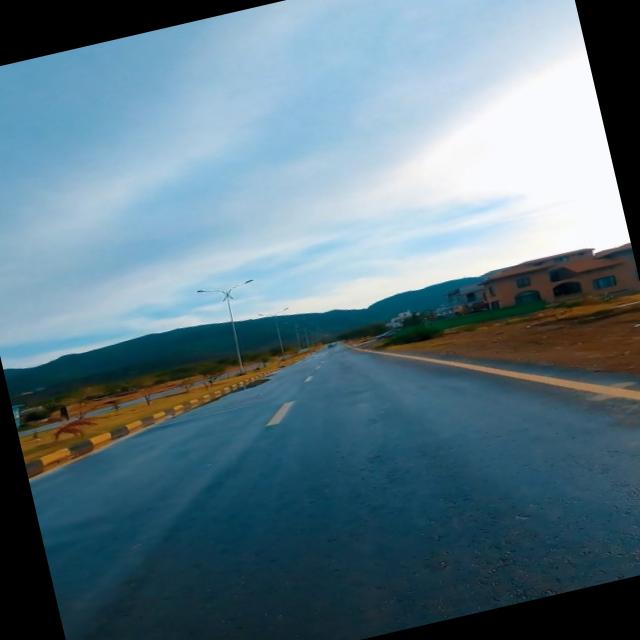asphalt: (29, 345, 640, 640)
